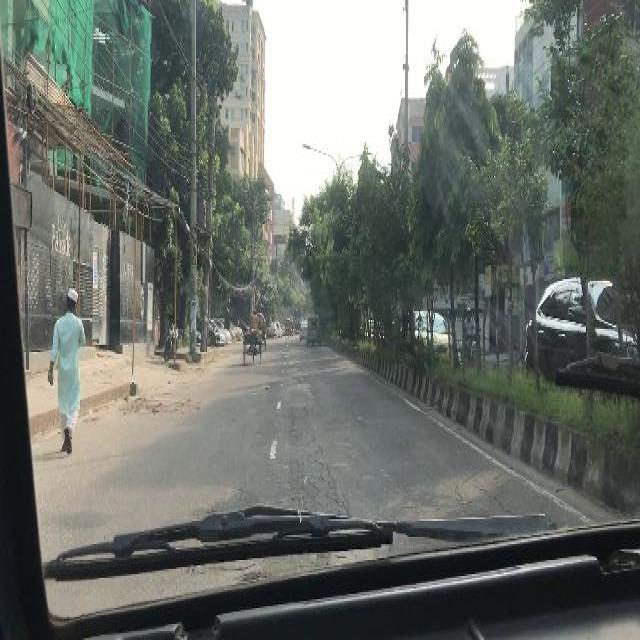bike: (461, 331, 482, 365), (164, 319, 181, 360)
vehicle: (526, 277, 640, 401), (402, 309, 457, 369), (198, 317, 222, 346), (307, 314, 322, 346), (222, 317, 242, 339), (259, 314, 267, 349), (217, 322, 231, 341), (300, 322, 309, 341), (285, 319, 292, 337), (267, 324, 277, 336), (276, 322, 282, 334)
